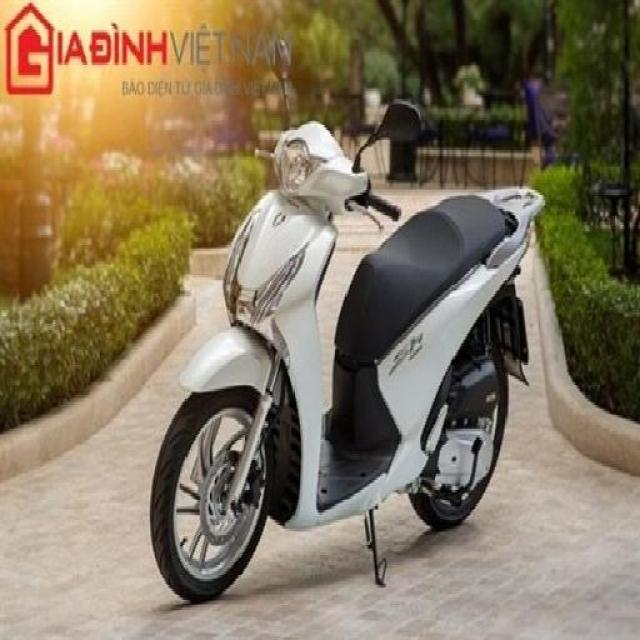All: (144, 118, 550, 603)
Head: (252, 122, 401, 233)
Tail: (482, 180, 544, 253)
